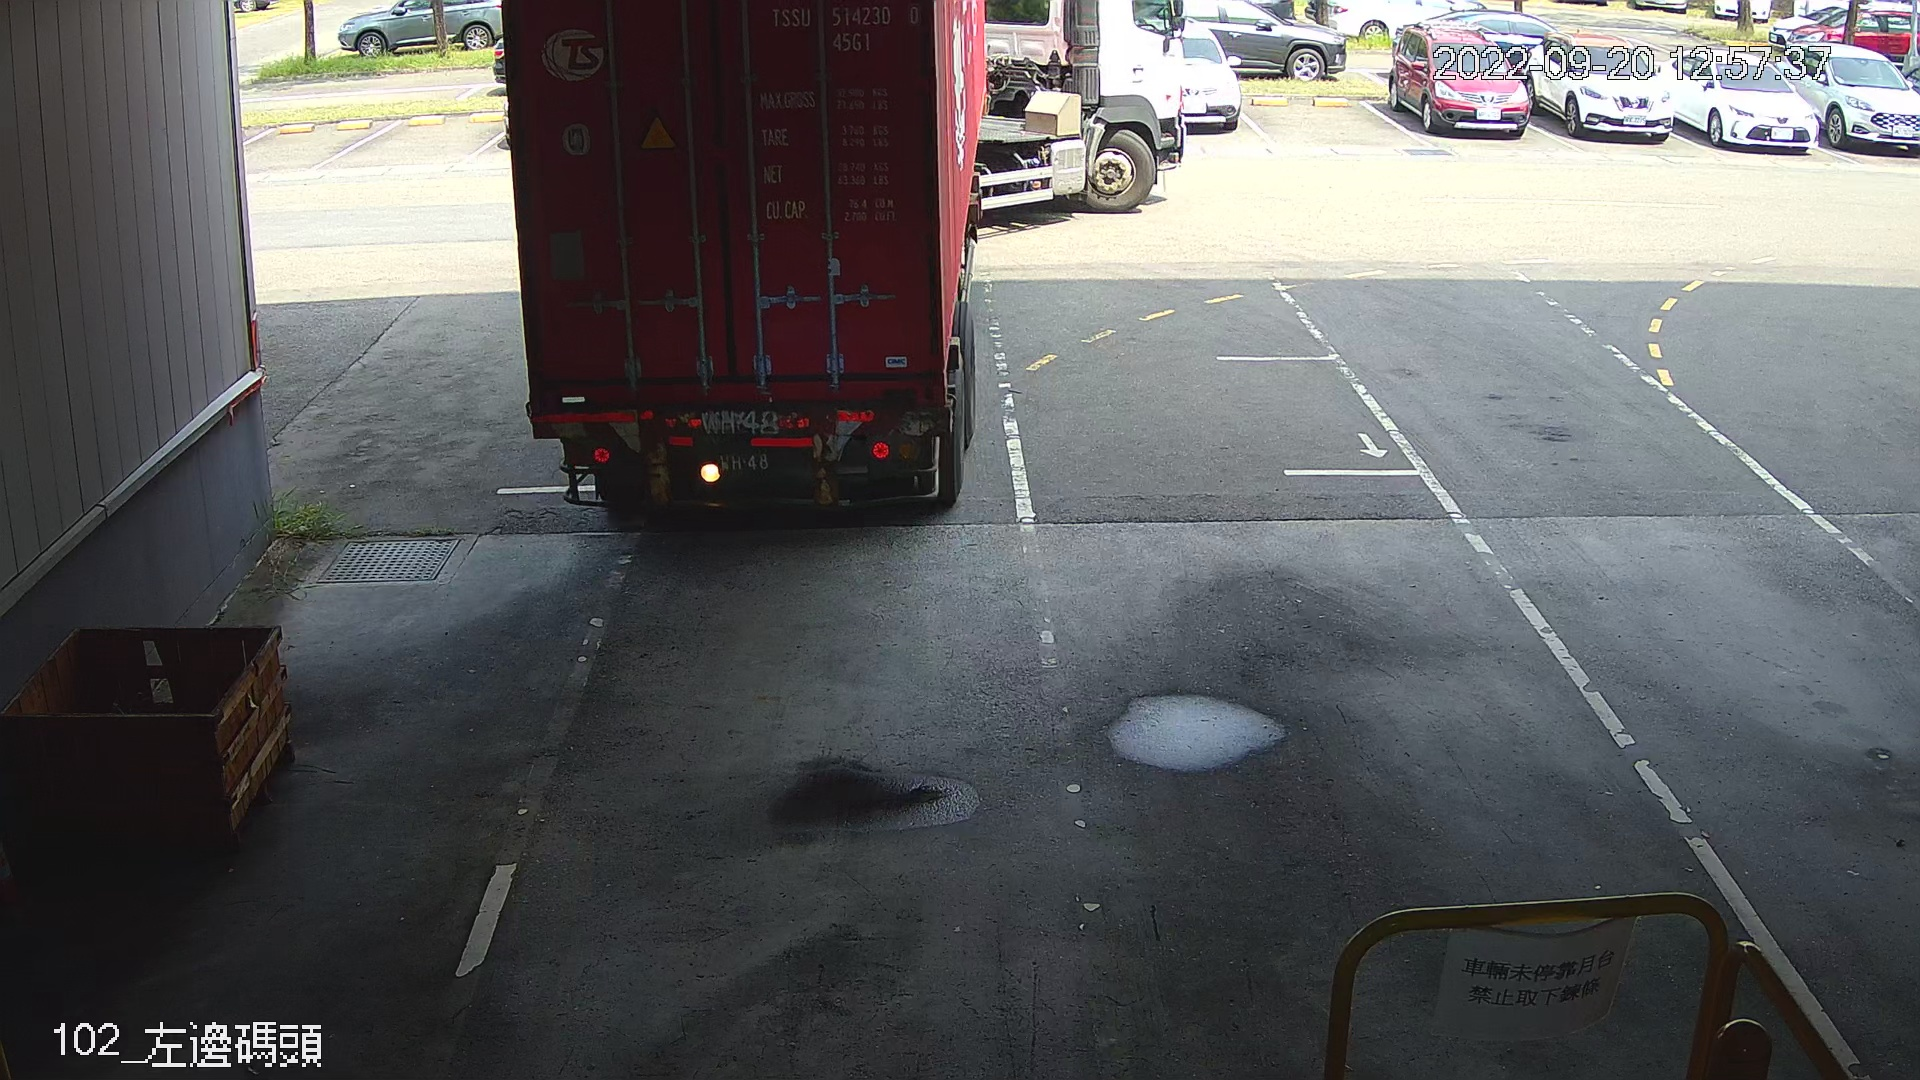container: (764, 1, 928, 61)
